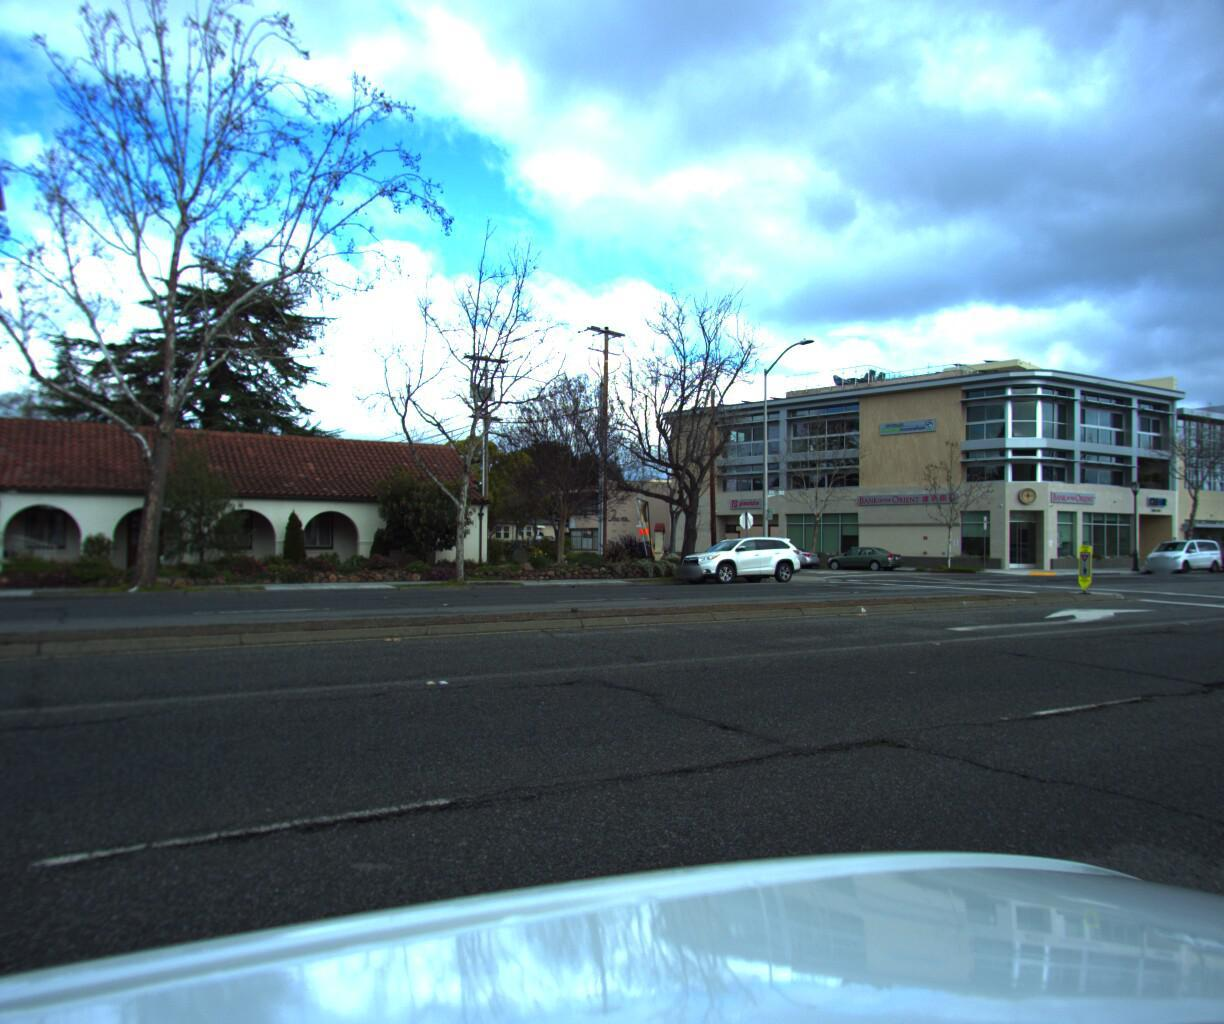car: (667, 529, 808, 584), (1130, 530, 1218, 567), (822, 539, 903, 567), (743, 539, 822, 565), (1203, 533, 1224, 565)
